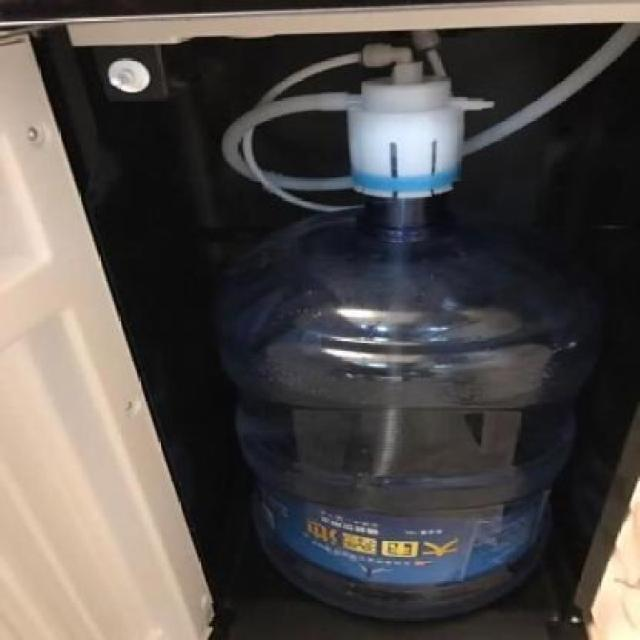coolerbottle: (202, 196, 602, 632)
